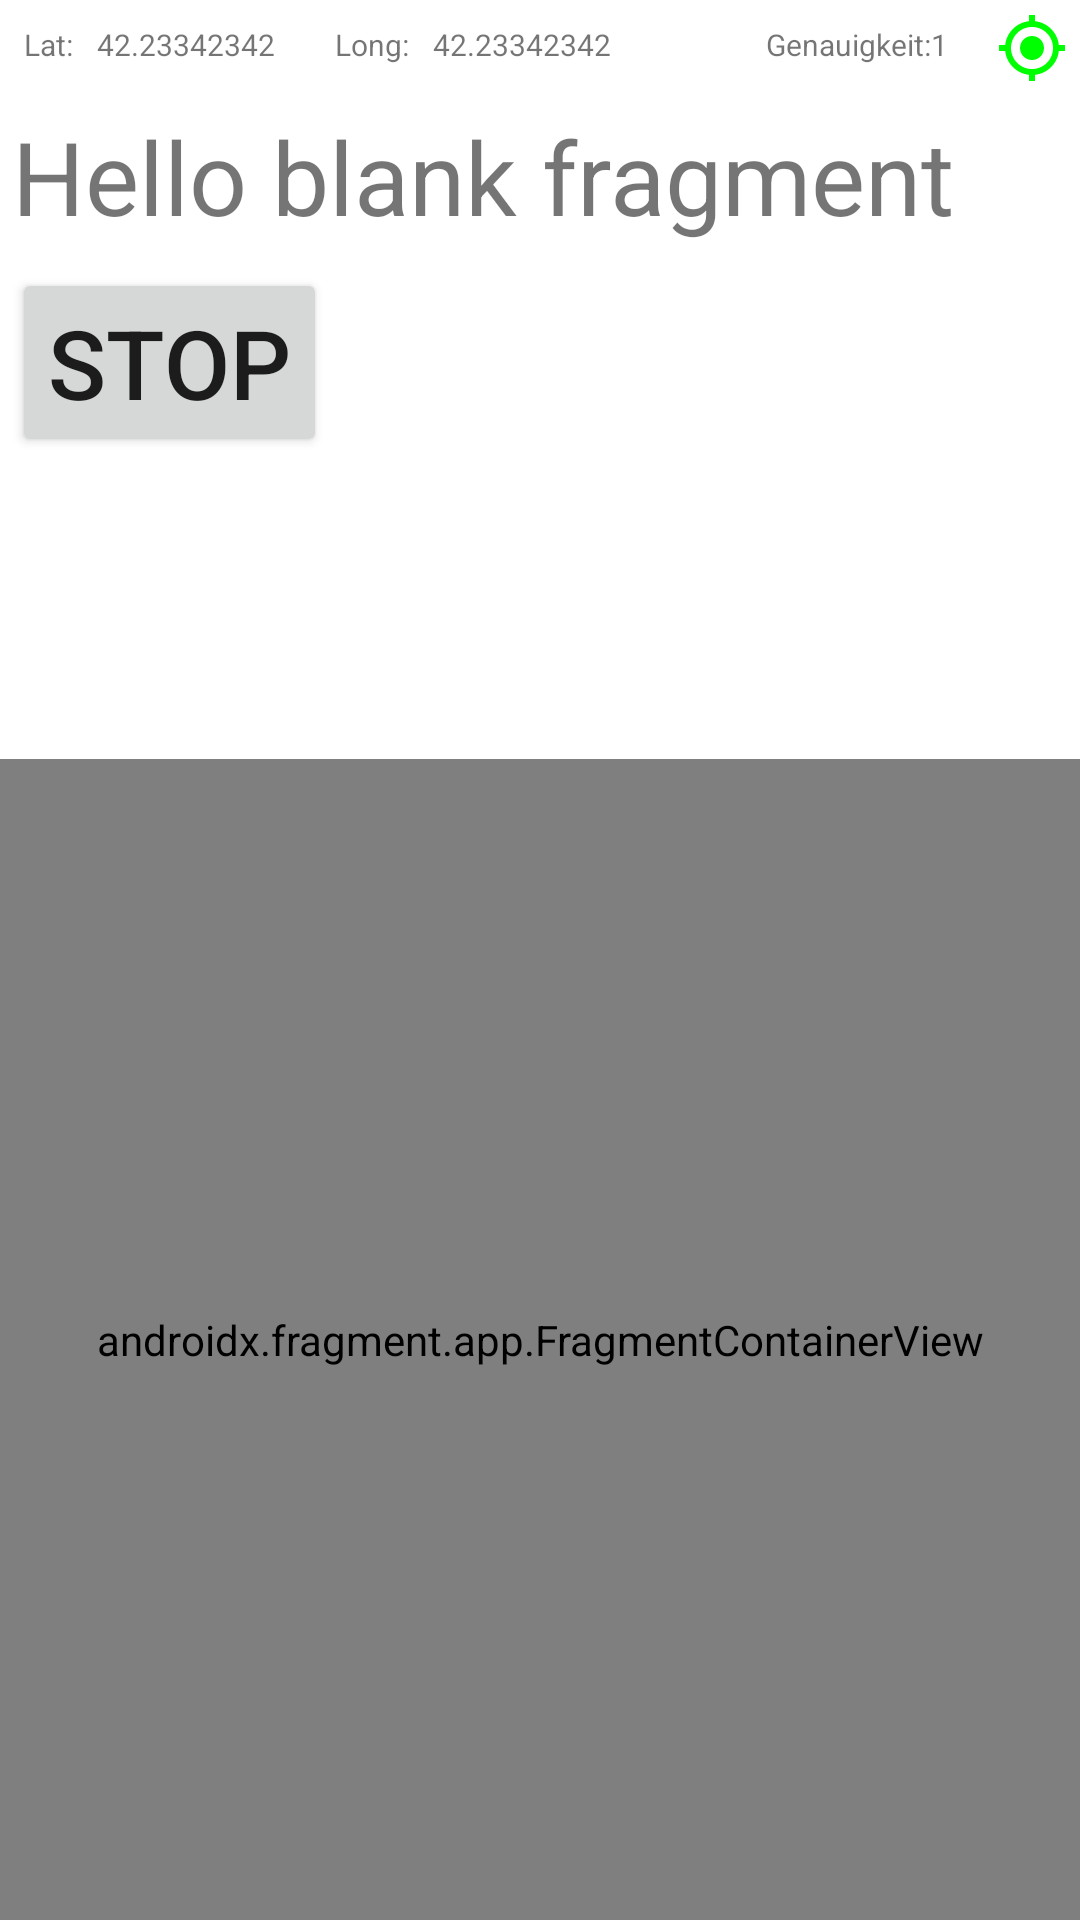

Where icons sit on this 1080px x 1920px app screen, as (x1, y1, x2, y2):
location: (999, 15, 1065, 81)
